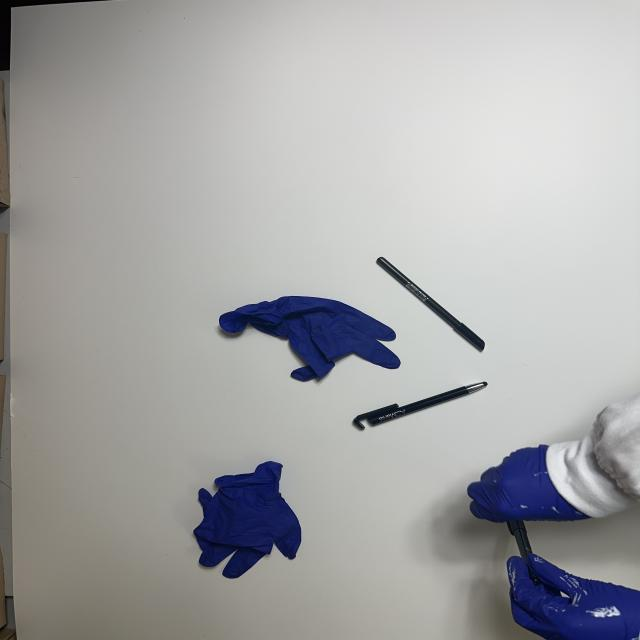gloves_contaminated: (507, 553, 640, 640), (468, 445, 590, 523)
